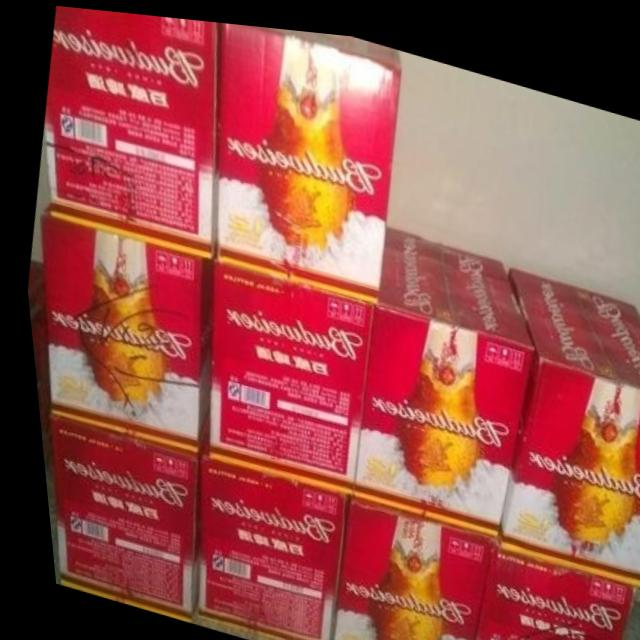box: (342, 218, 529, 529), (213, 18, 400, 293), (487, 260, 640, 578), (41, 5, 221, 256), (36, 205, 206, 456), (199, 257, 370, 493), (185, 433, 340, 640), (42, 415, 189, 619), (321, 492, 488, 640), (461, 529, 626, 640)
